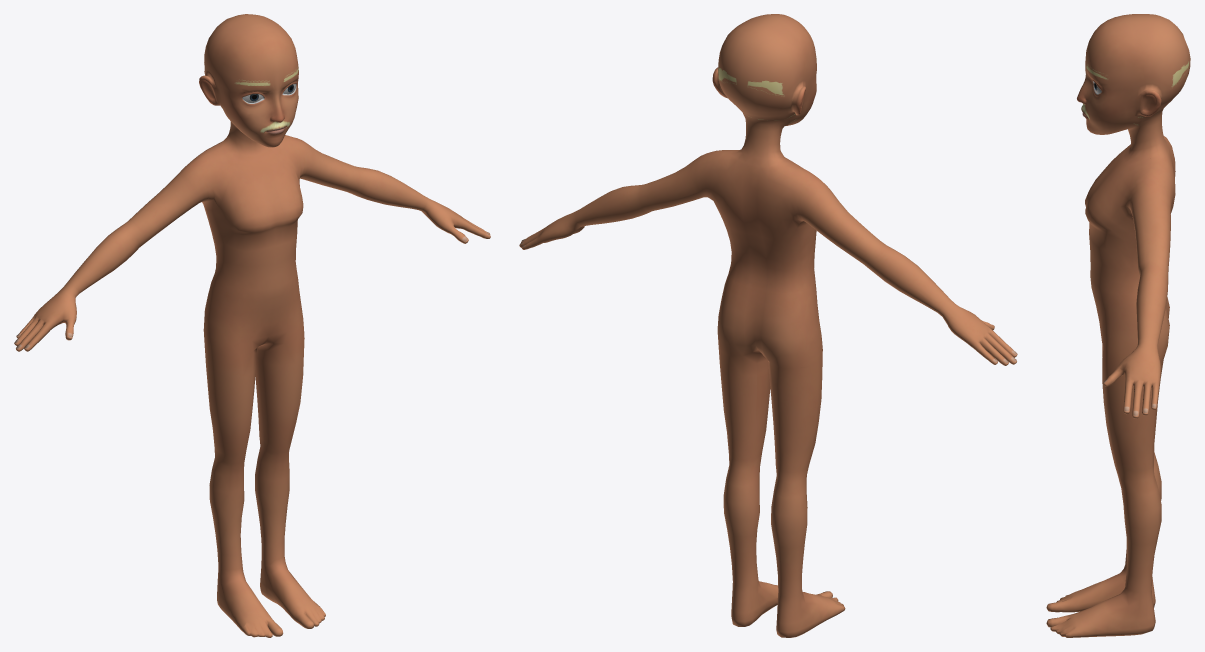
File: frame_0003.glb
3 views of the same model, side by side, from view 1: azimuth 30°, elevation 25°; view 2: azimuth 150°, elevation 25°; view 3: azimuth 270°, elevation 25° (orthographic). The views are drawn at different scales.
Parts seen in each view (by area): view 1: frame_0003_head_geo; view 2: frame_0003_head_geo; view 3: frame_0003_head_geo.
Part boxes in pixels (<box>): frame_0003_head_geo: <box>14,14,490,637</box>; frame_0003_head_geo: <box>519,14,1017,637</box>; frame_0003_head_geo: <box>1046,14,1190,637</box>.
Bounding box in the file's own units: 1.28 × 1.5 × 0.3253.
4 materials, 2 textured.
